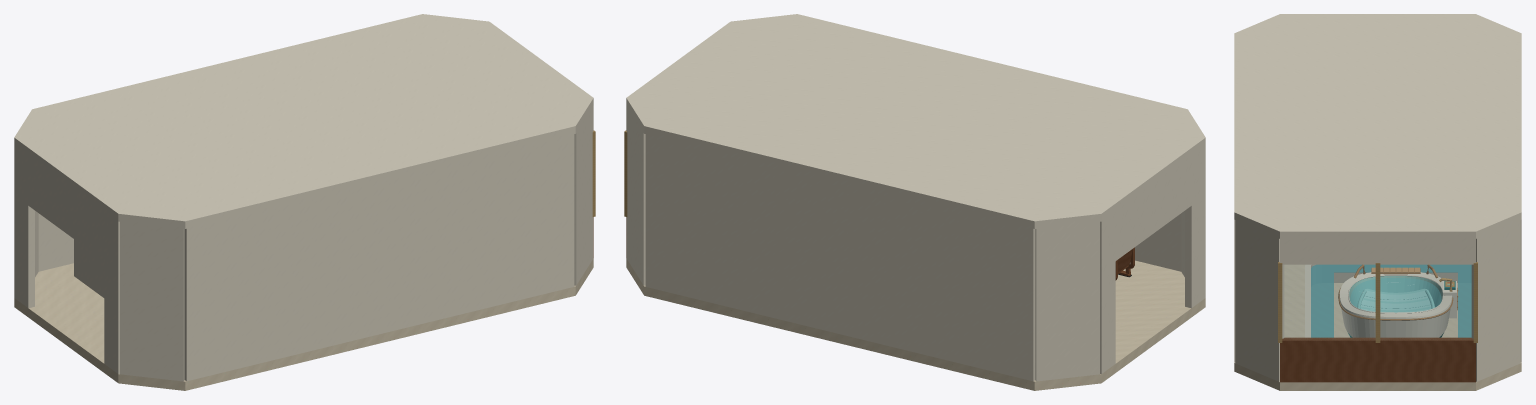
The model's file is D04_PORT_CENTRAL_HOME_947_r001.glb.
3 views of the same model, side by side, from view 1: azimuth 30°, elevation 25°; view 2: azimuth 150°, elevation 25°; view 3: azimuth 270°, elevation 25° (orthographic). The views are drawn at different scales.
Visible parts, largest first — view 1: PC947_D04H946_Roof, PC947_D04H946_Shell_3, PC947_D04H946_Floor, PC947_D04H946_Shell_2, PC947_D04H946_EntryHeader, PC947_D04H946_Shell_4, PC947_D04H946_EntryWall_0, PC947_D04H946_EntryWall_1, PC947_D04H946_Shell_7, PC947_D04H946_BathDogleg; view 2: PC947_D04H946_Roof, PC947_D04H946_Shell_7, PC947_D04H946_Floor, PC947_D04H946_Shell_0, PC947_D04H946_EntryHeader, PC947_D04H946_Shell_6, PC947_D04H946_EntryWall_1, PC947_D04H946_EntryWall_0, PC947_D04H946_Shell_3; view 3: PC947_D04H946_Roof, PC947_D04H946_GardenGlass, PC947_D04H946_GardenDado, PC947_D04H946_Shell_4, PC947_D04H946_Shell_6, PC947_D04H946_GardenHead, PC947_D04H946_Floor, PC947_ReservedAquaticRest__Hollow continuous basin shell wit, PC947_D04H946_Water_0, PC947_ReservedAquaticRest__WaterSurface_VisualOnly, PC947_ReservedAquaticRest__Contoured broad immersed rest sup, PC947_D04H946_AquaticBasinRim (+8 smaller).
Part boxes in pixels (x1,y1,x2,y2): PC947_D04H946_Roof: (14,14,593,228); PC947_D04H946_Shell_3: (184,134,574,381); PC947_D04H946_Floor: (14,258,593,390); PC947_D04H946_Shell_2: (120,221,184,381); PC947_D04H946_EntryHeader: (28,156,104,260); PC947_D04H946_Shell_4: (574,106,593,285); PC947_D04H946_EntryWall_0: (14,145,34,308); PC947_D04H946_EntryWall_1: (104,211,119,373); PC947_D04H946_Shell_7: (38,213,73,271); PC947_D04H946_BathDogleg: (74,239,104,297); PC947_D04H946_Roof: (626,14,1205,228); PC947_D04H946_Shell_7: (645,134,1035,381); PC947_D04H946_Floor: (626,258,1205,390); PC947_D04H946_Shell_0: (1035,221,1099,381); PC947_D04H946_EntryHeader: (1115,156,1191,260); PC947_D04H946_Shell_6: (626,106,645,285); PC947_D04H946_EntryWall_1: (1185,145,1205,308); PC947_D04H946_EntryWall_0: (1100,211,1115,373); PC947_D04H946_Shell_3: (1135,213,1181,271); PC947_D04H946_Roof: (1234,14,1521,238); PC947_D04H946_GardenGlass: (1283,265,1471,339); PC947_D04H946_GardenDado: (1280,337,1475,382); PC947_D04H946_Shell_4: (1235,220,1284,381); PC947_D04H946_Shell_6: (1471,220,1520,381); PC947_D04H946_GardenHead: (1280,239,1475,264); PC947_D04H946_Floor: (1234,264,1521,390); PC947_ReservedAquaticRest__Hollow continuous basin shell wit: (1339,272,1452,337); PC947_D04H946_Water_0: (1311,264,1471,337); PC947_ReservedAquaticRest__WaterSurface_VisualOnly: (1350,278,1441,312); PC947_ReservedAquaticRest__Contoured broad immersed rest sup: (1360,289,1431,312); PC947_D04H946_AquaticBasinRim: (1305,264,1457,337).
Bounding box in the file's own units: 12.92 × 4.4 × 7.2.
40 materials, 21 textured.
